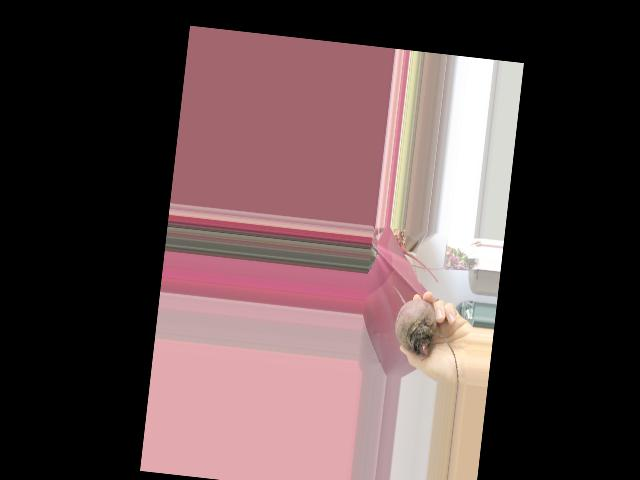beet: (382, 285, 469, 383)
